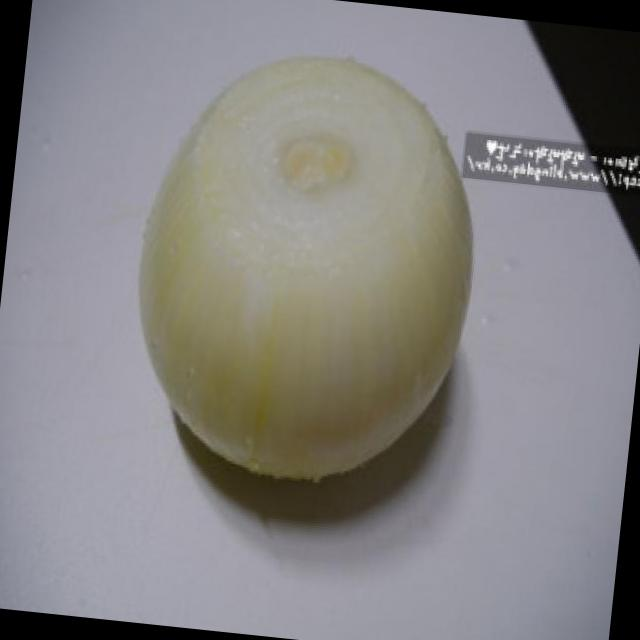Onion: (98, 19, 513, 510)
